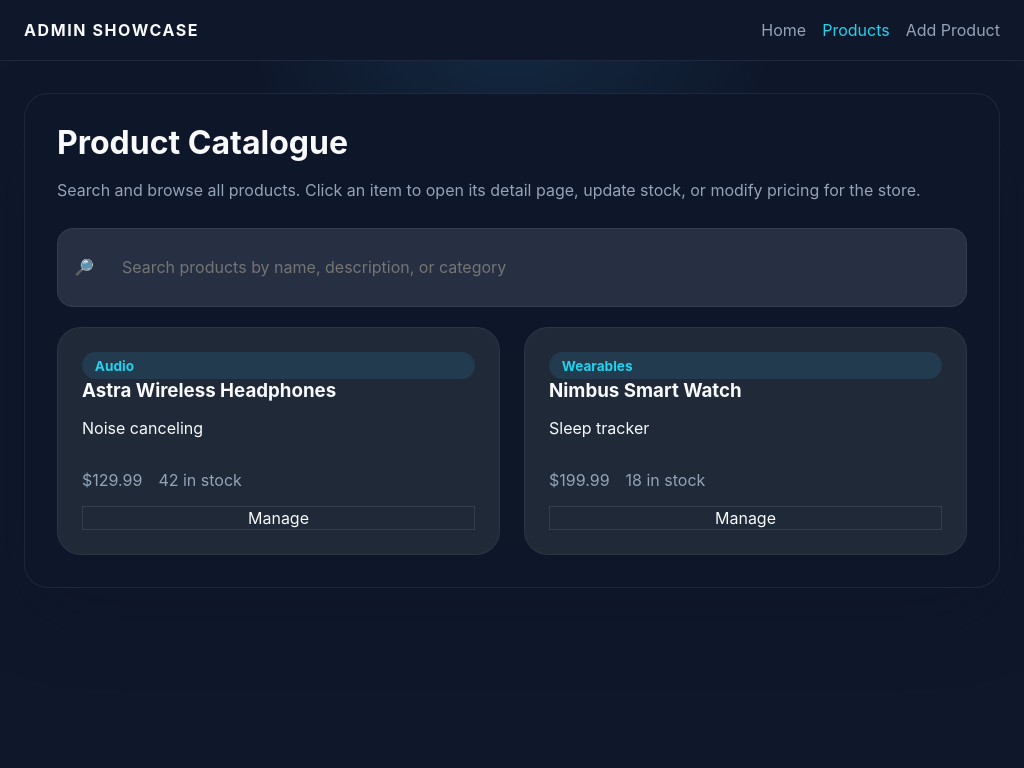
Test case: Products page › shows products and filters results
expect the heading "Astra Wireless Headphones" is shown: met, box [82,379,336,402]
expect the heading "Nimbus Smart Watch" is shown: met, box [549,379,742,402]
Type "Nimbus" into the search field with placeholder "Search products by name, description, or category". click: (528, 267)
box: [106,243,950,292]
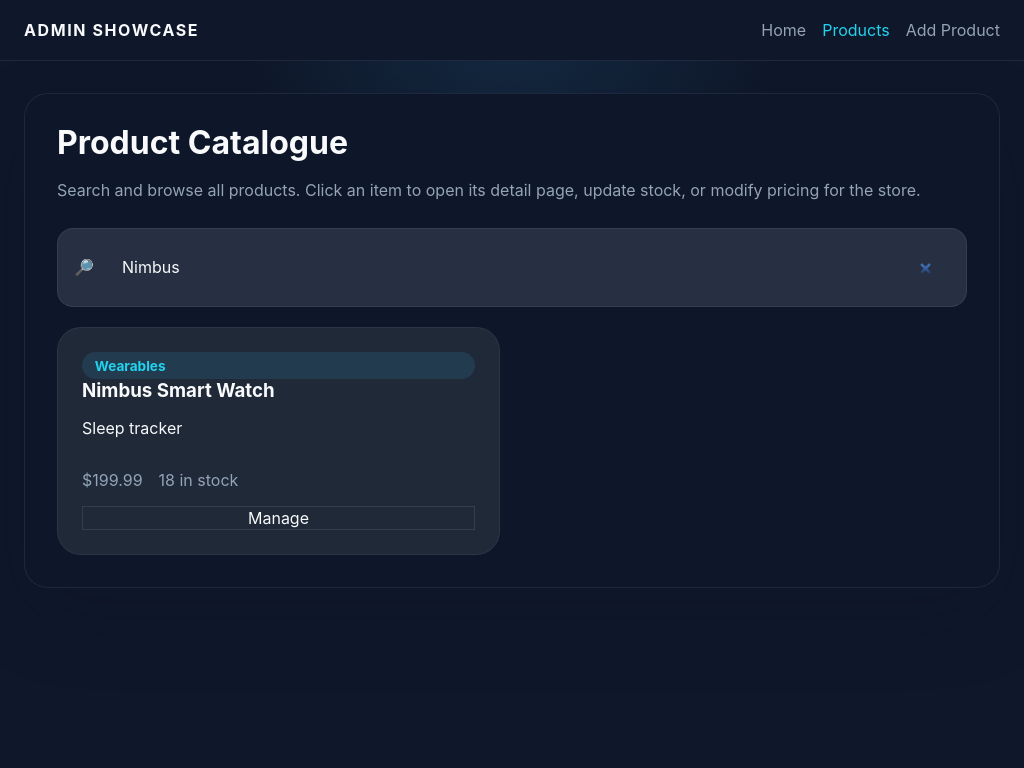
expect the heading "Nimbus Smart Watch" is shown: met, box [82,379,275,402]
expect the heading "Astra Wireless Headphones" is gone: met
